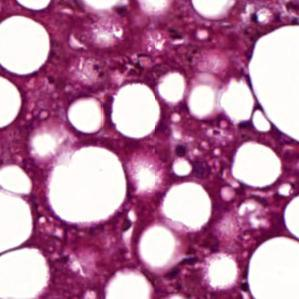steatosis: (248, 25, 299, 145), (0, 15, 54, 76), (248, 237, 299, 299), (112, 83, 163, 139), (0, 77, 24, 129), (285, 197, 299, 238)
